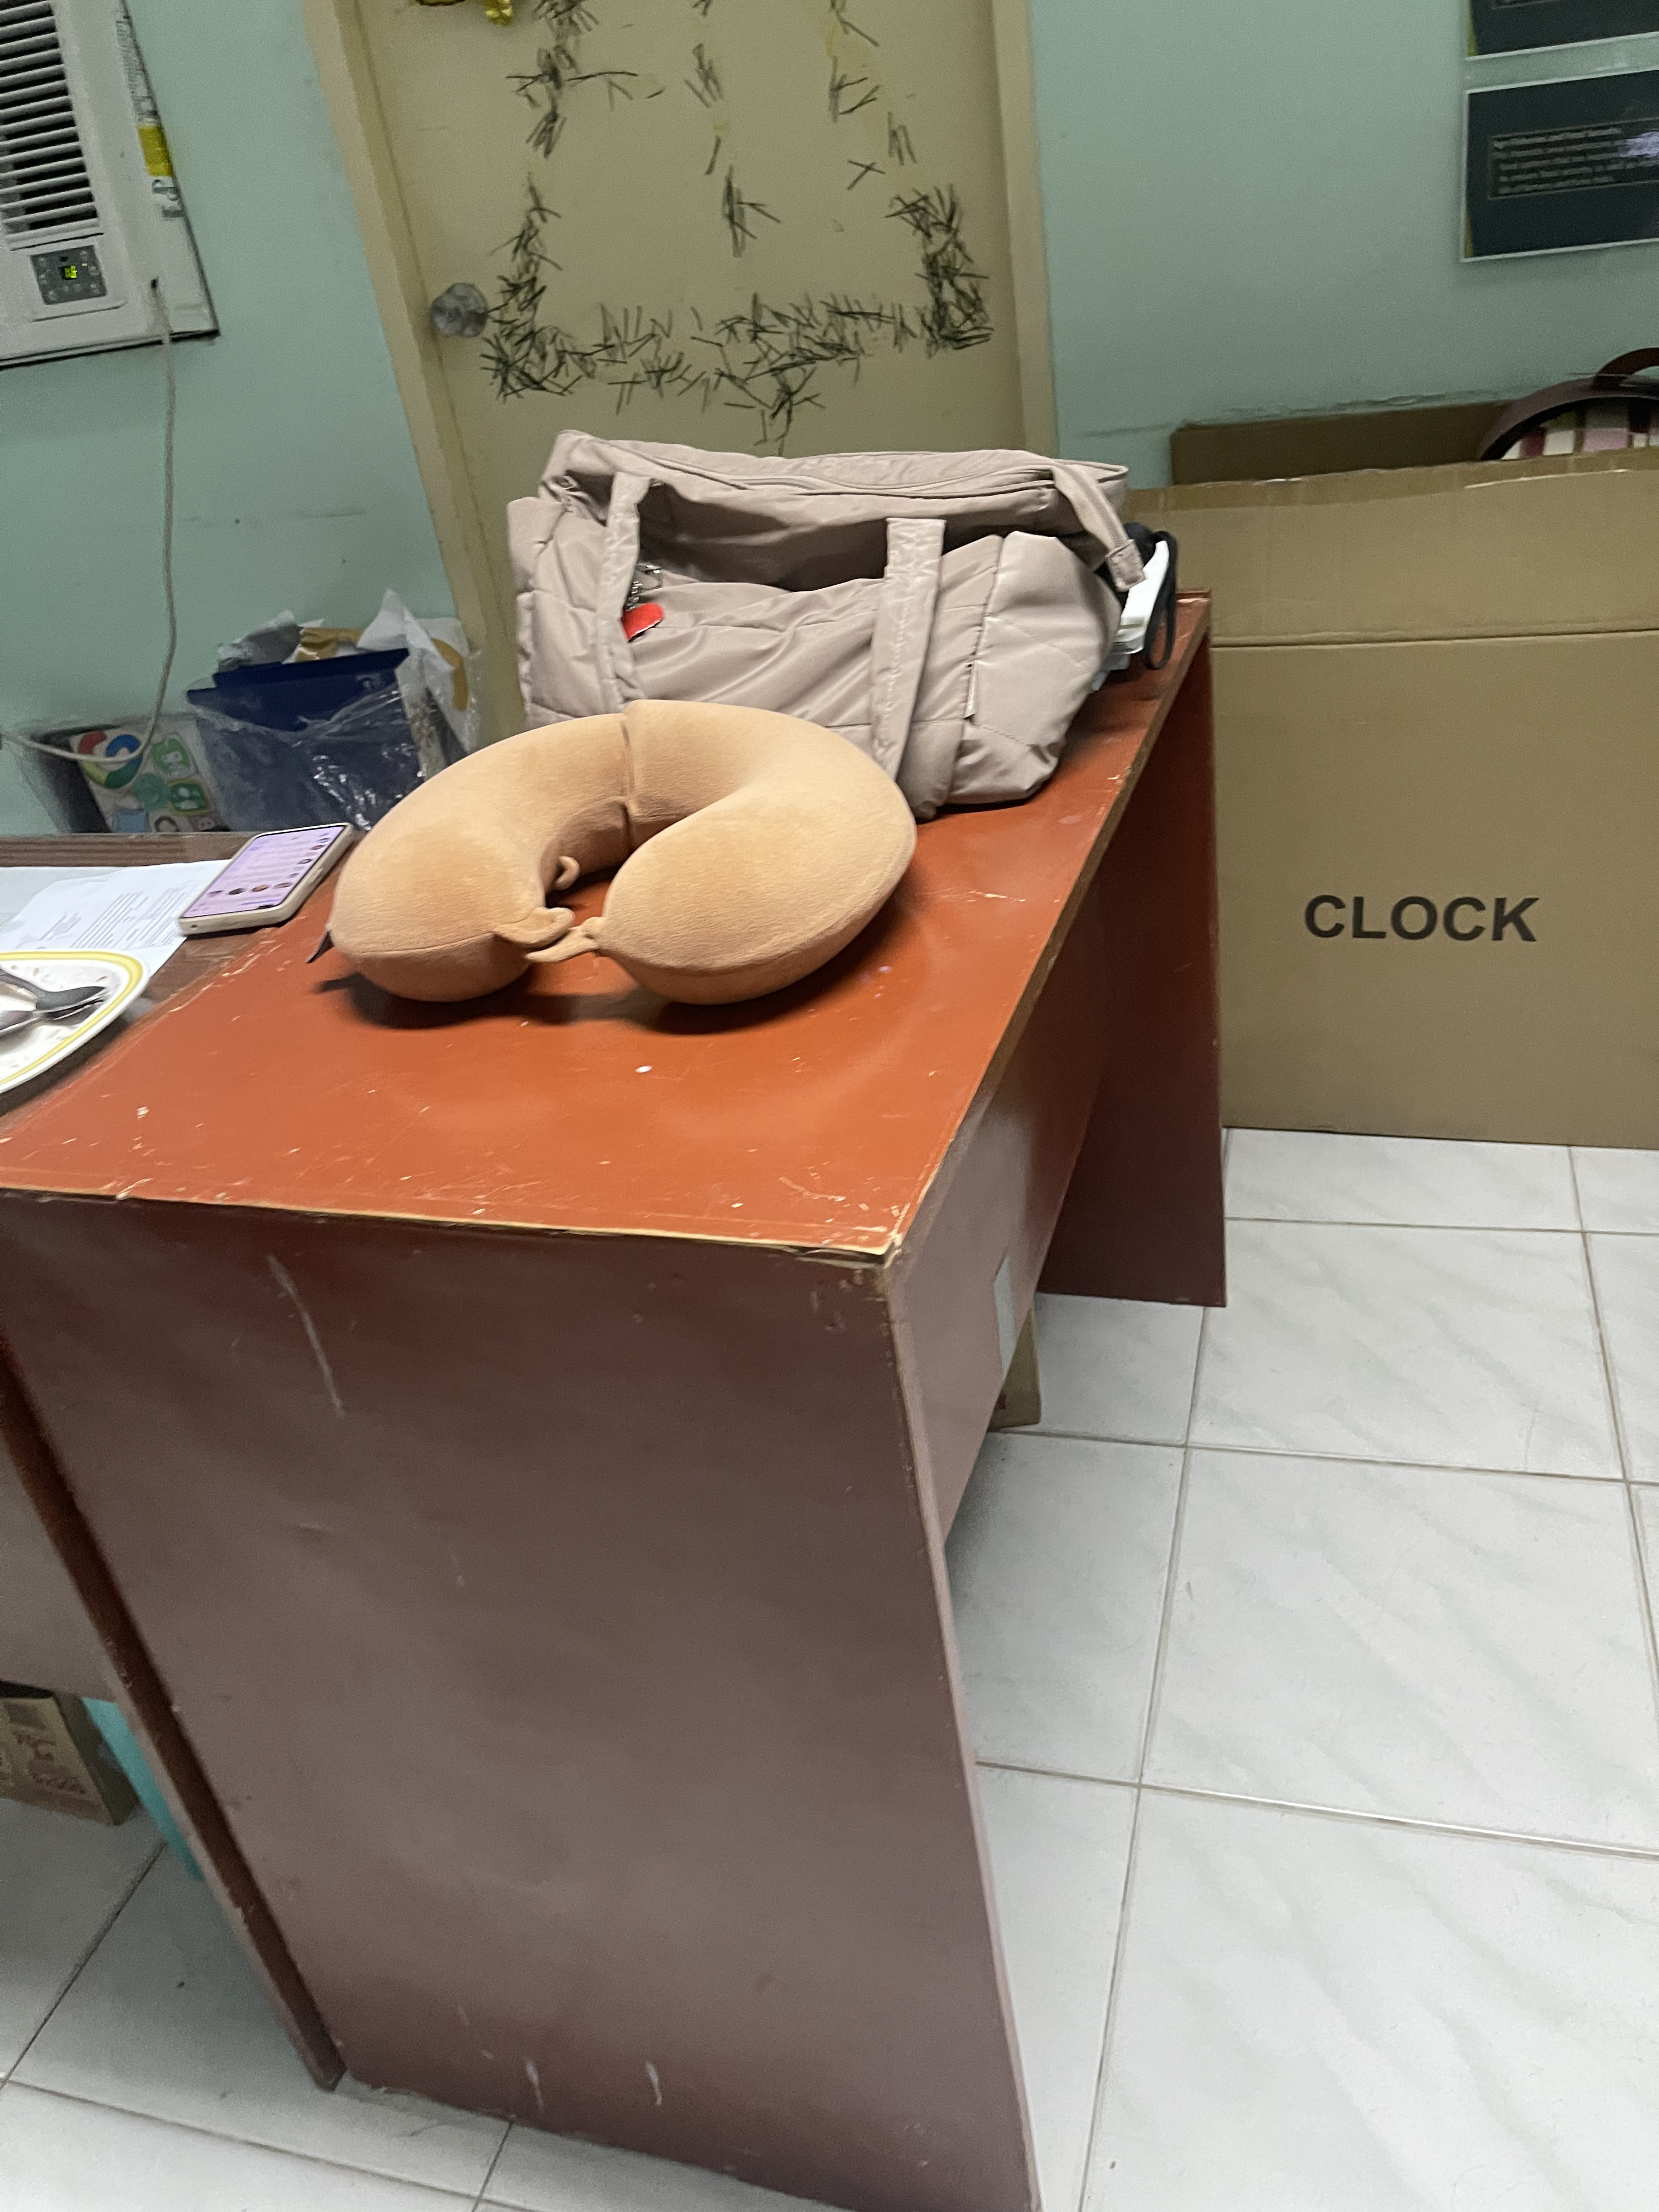table2: (0, 658, 1256, 2212)
